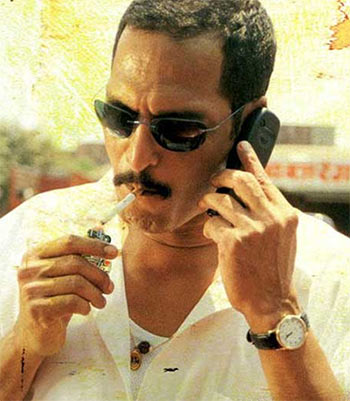cigarette: (77, 177, 159, 242)
